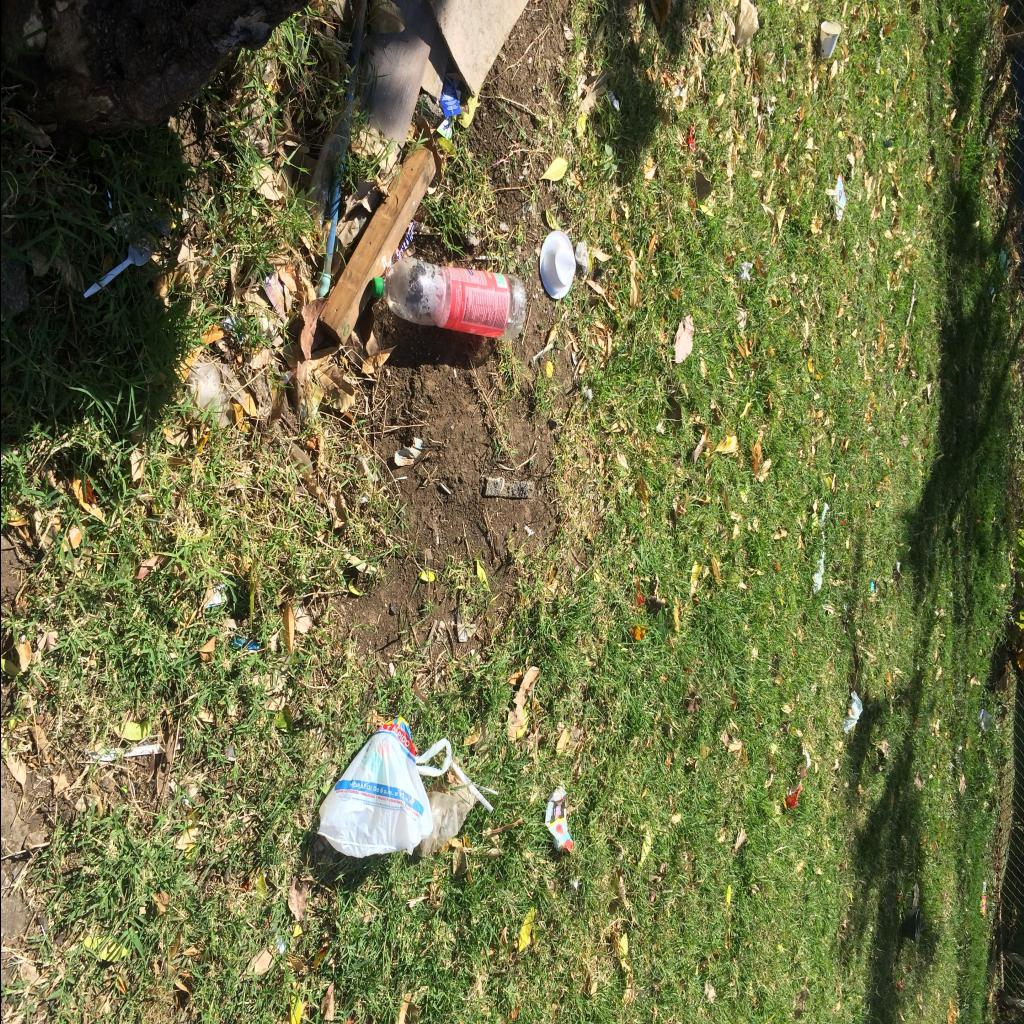Clear plastic bottle: (370, 256, 526, 340)
Other carton: (440, 78, 460, 118)
Other plastic: (380, 221, 414, 276), (260, 270, 292, 324)
Other plastic bottle: (188, 363, 234, 429), (84, 744, 180, 762)
Paper cup: (818, 20, 841, 58)
Plastic bottle cap: (370, 276, 380, 298)
Plastic film: (416, 791, 470, 857), (733, 0, 759, 47)
Plastic straw: (450, 760, 492, 814)
Plastic utensils: (82, 244, 150, 298)
Single-use carrier bag: (316, 717, 450, 858)
Spread tub: (539, 230, 575, 298)
Tissues: (842, 691, 862, 734), (574, 240, 588, 276)
Unlabeled litter: (544, 783, 573, 853), (812, 502, 828, 594), (205, 584, 231, 608), (833, 174, 845, 222), (228, 636, 258, 652), (436, 116, 452, 142), (608, 91, 618, 111), (870, 581, 874, 591)
